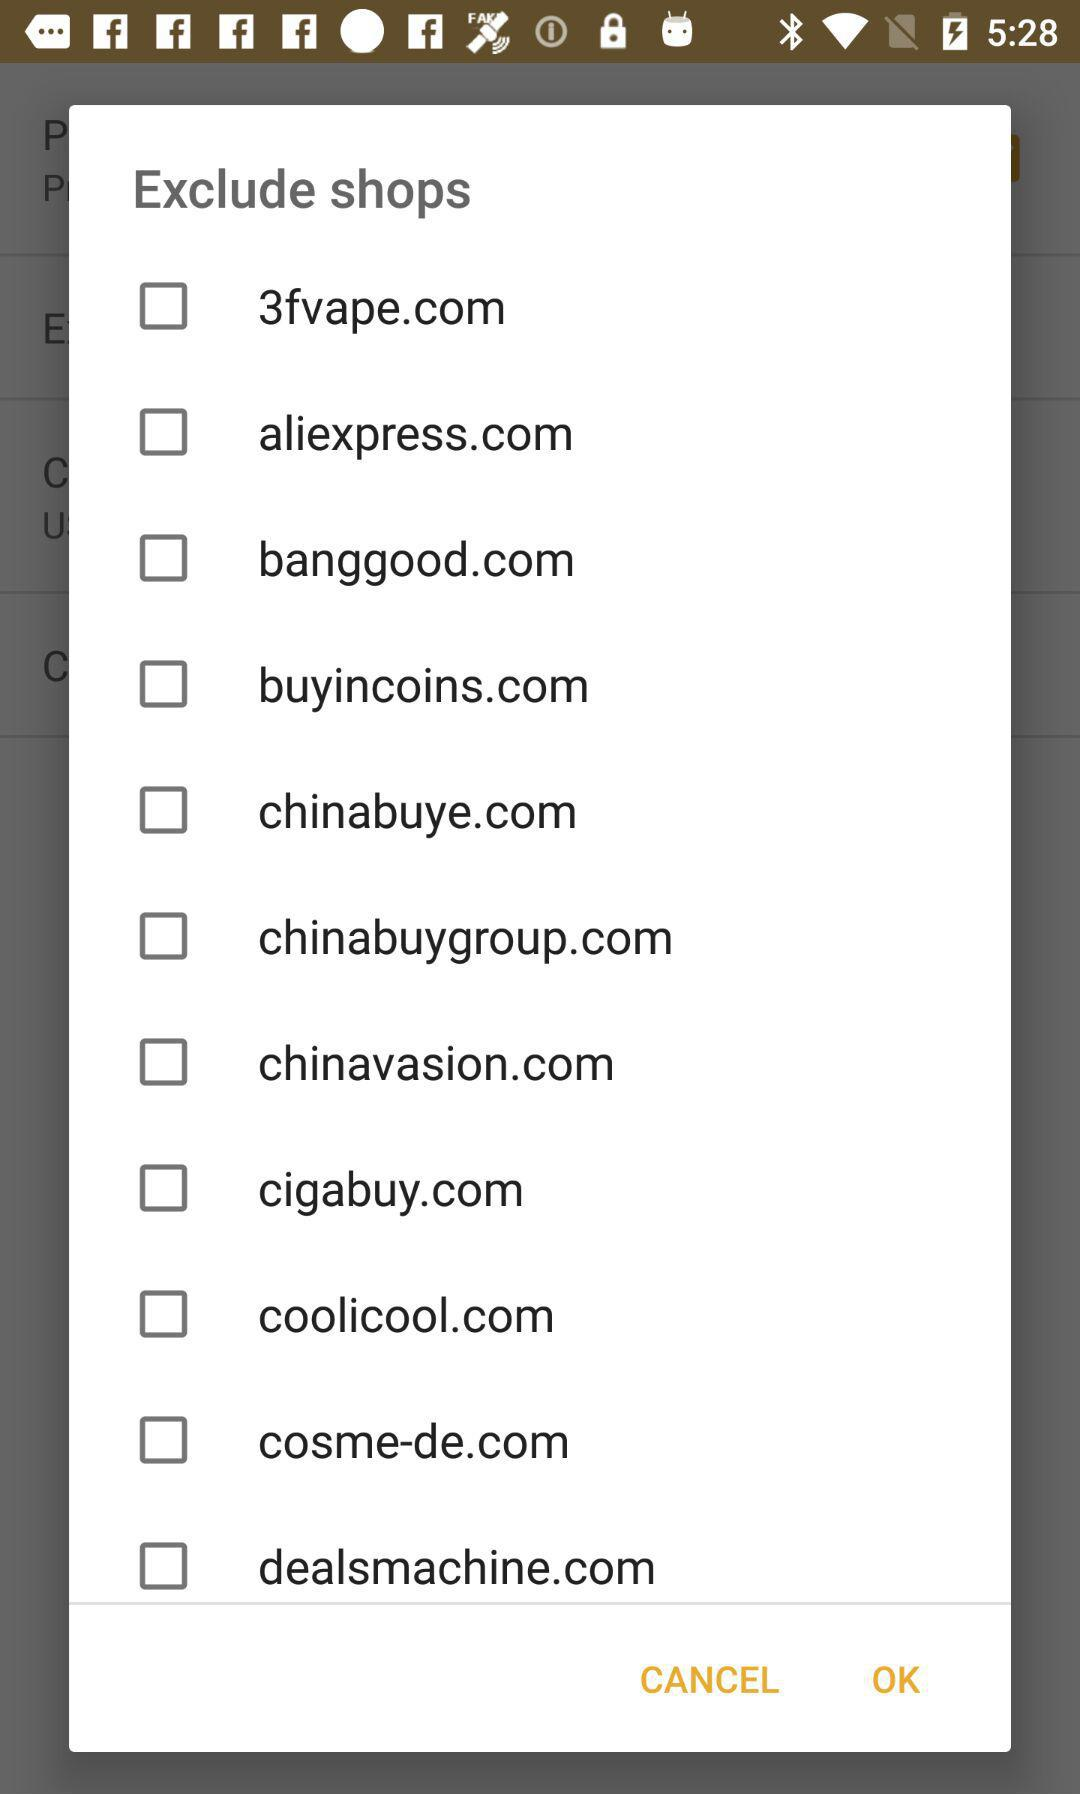CheckedTextView: (140, 1542, 655, 1592), (138, 786, 577, 841), (140, 1037, 612, 1087), (140, 911, 578, 965), (140, 660, 588, 712), (140, 534, 574, 588), (138, 407, 571, 461), (138, 1415, 568, 1465), (140, 1289, 553, 1339), (140, 1164, 523, 1217), (138, 282, 505, 336)
Modal: (69, 105, 1012, 1753)
Text: (136, 168, 471, 220), (260, 1547, 655, 1586), (261, 665, 588, 712), (259, 792, 577, 841), (261, 539, 574, 588), (260, 413, 571, 461), (259, 918, 578, 965), (259, 1043, 612, 1082), (260, 1169, 523, 1217), (260, 1421, 568, 1460), (260, 288, 505, 336), (259, 1296, 553, 1334), (641, 1665, 781, 1694), (872, 1665, 922, 1694)
UpperTaskBar: (1, 1, 1080, 64)
